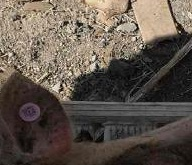text: (10, 94, 52, 130)
